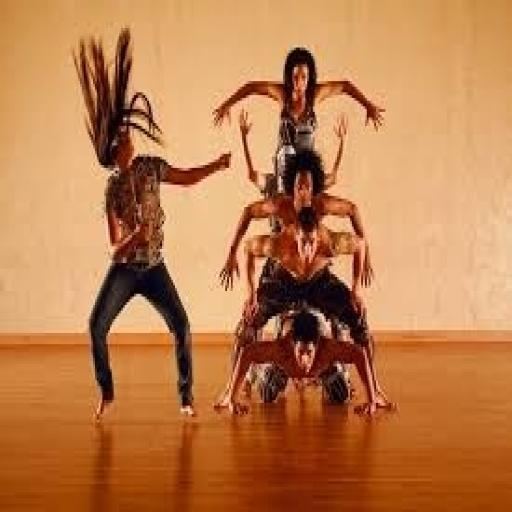dancing: (70, 25, 234, 425)
